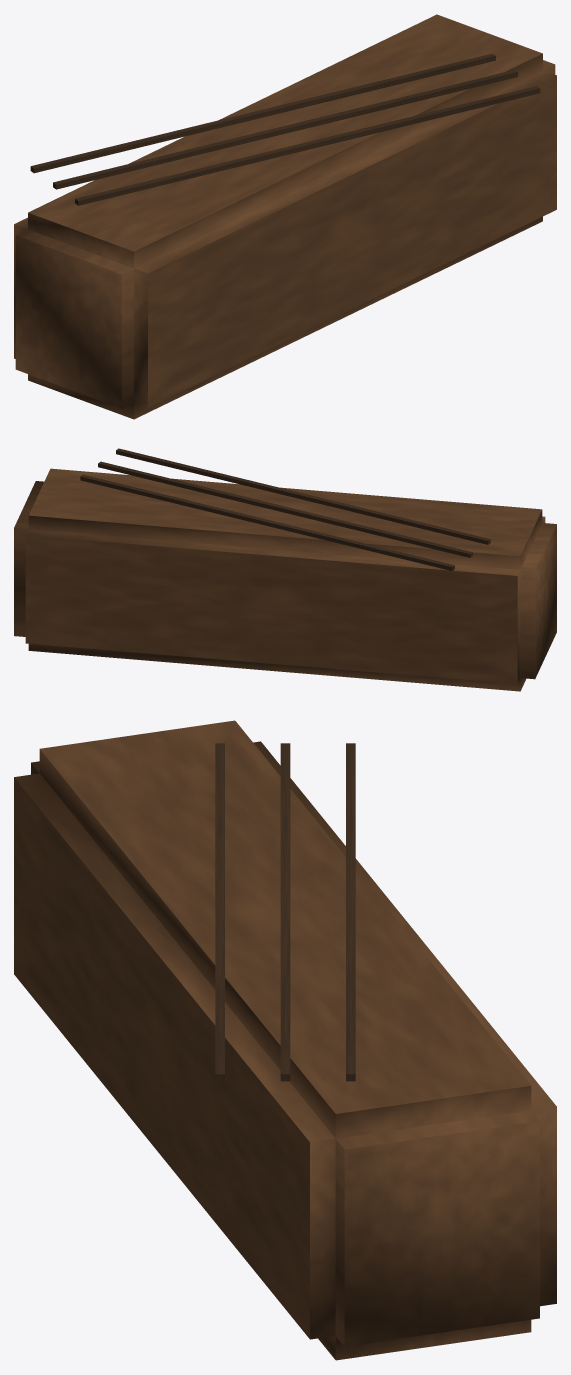
File: ring-fallen-beam-3.fbx
3 renders of one model, top to bottom at view 1: azimuth 30°, elevation 25°; view 2: azimuth 150°, elevation 25°; view 3: azimuth 270°, elevation 25°, orthographic. The views are drawn at different scales.
Parts seen in each view (by area): view 1: ring-fallen-beam-3__Geometry; view 2: ring-fallen-beam-3__Geometry; view 3: ring-fallen-beam-3__Geometry.
Boxes of the visible parts, <box> form: ring-fallen-beam-3__Geometry: <box>14,14,556,419</box>; ring-fallen-beam-3__Geometry: <box>14,448,556,691</box>; ring-fallen-beam-3__Geometry: <box>14,720,556,1360</box>.
Size of the model in its own units: 0.9035 by 0.2585 by 0.4992.
